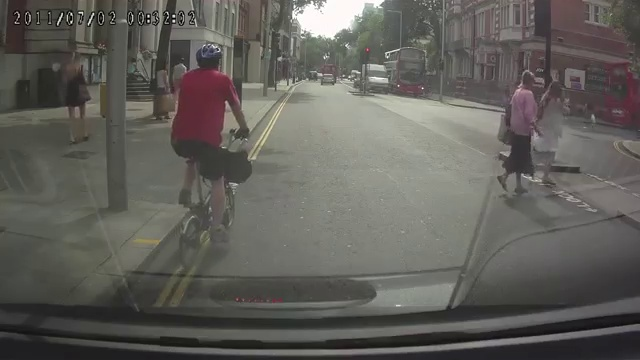cyclist_back: (173, 38, 250, 274)
